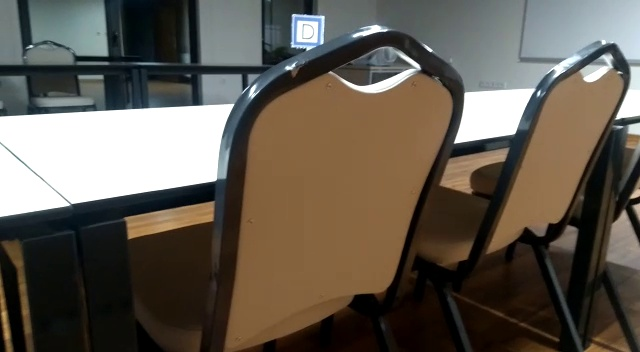durak: (291, 15, 324, 49)
